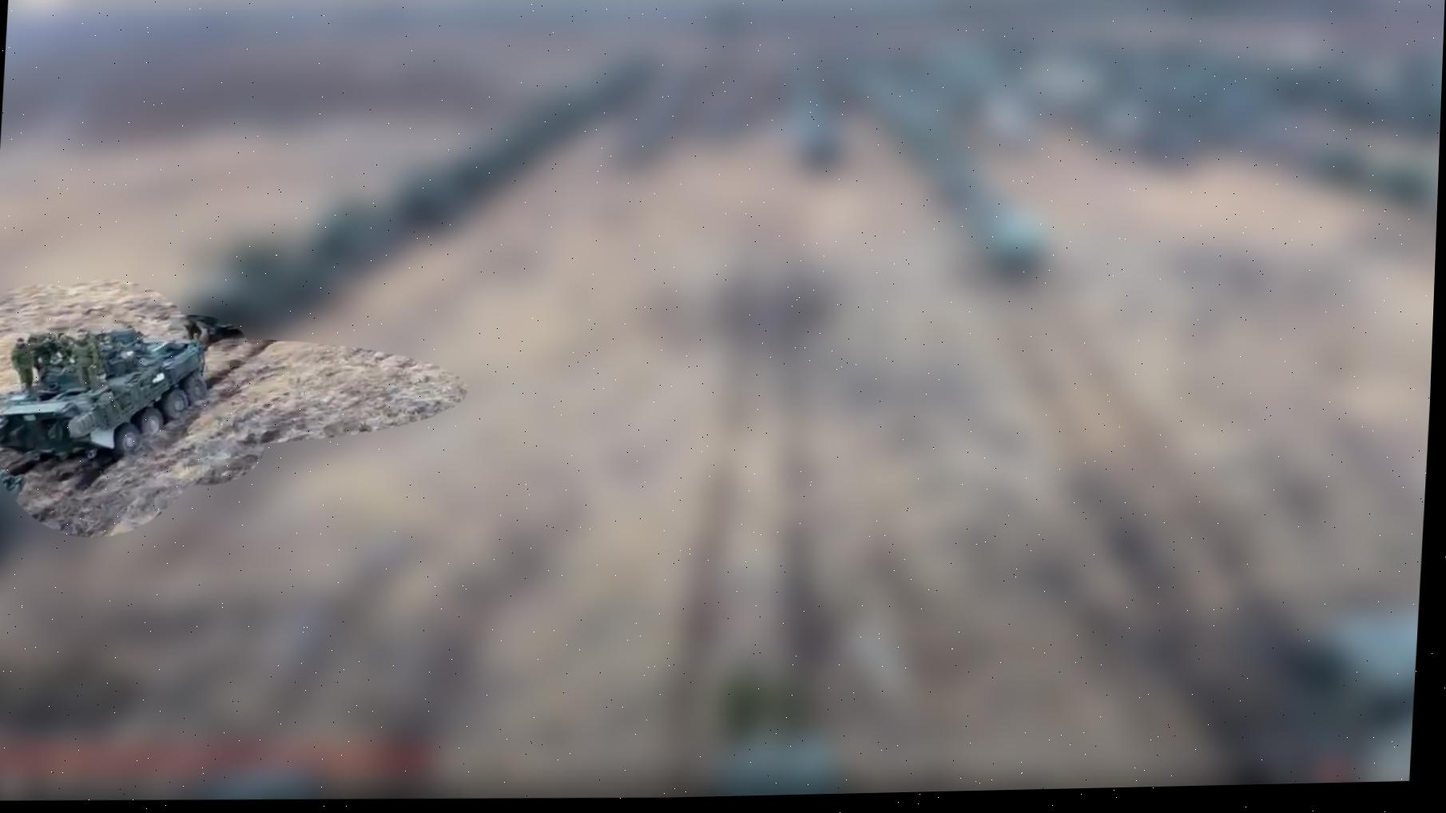armored_car: (0, 318, 211, 466)
